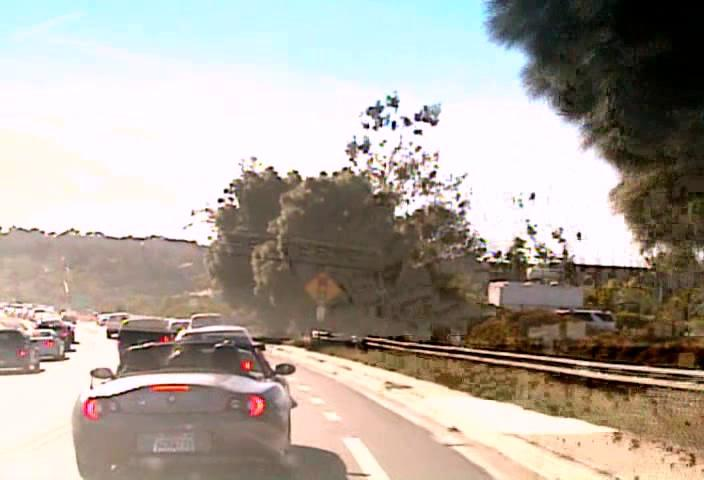signalAhead: (303, 270, 340, 305)
